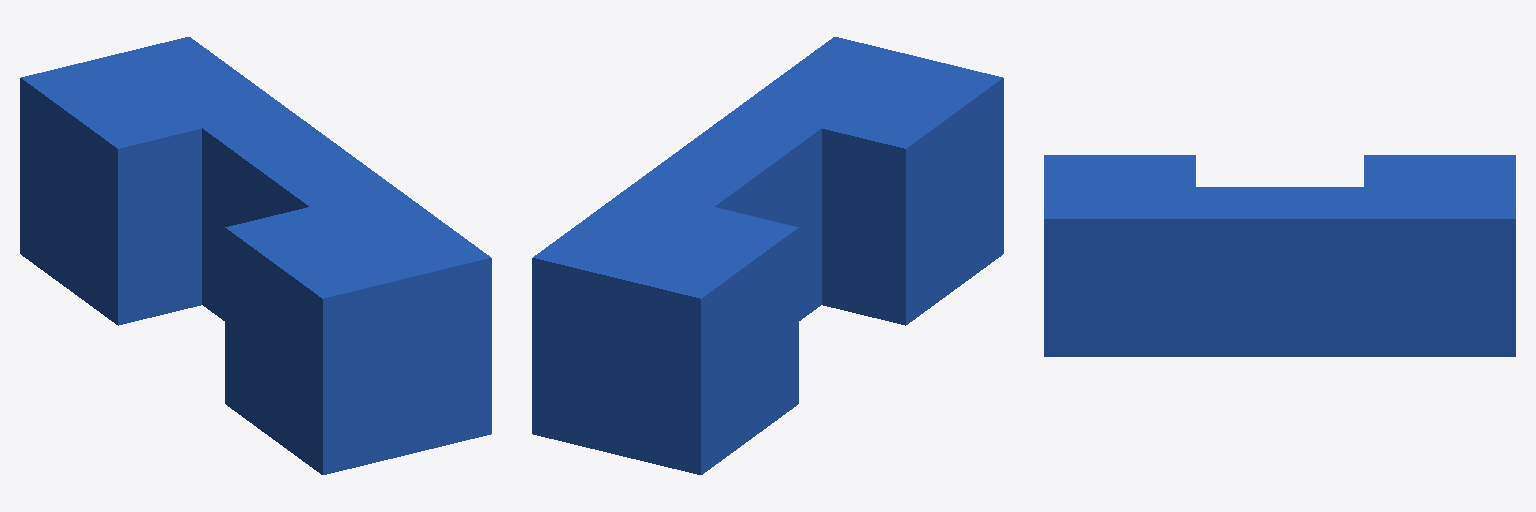
The robot description file, URDF, robot "obj_13":
<robot name="obj_13" version="1.0">
  <link name="obj_13">
    <collision name="short-piece-3-collision.001">
      <origin rpy="0.00000 0.00000 0.00000" xyz="0.00000 0.00000 0.00000"/>
      <geometry>
        <mesh filename="../meshes/obj/short-piece-3-collision.001.obj" scale="1.00000 1.00000 1.00000"/>
      </geometry>
    </collision>
    <collision name="short-piece-3-collision.002">
      <origin rpy="0.00000 0.00000 0.00000" xyz="0.00000 0.00000 0.00000"/>
      <geometry>
        <mesh filename="../meshes/obj/short-piece-3-collision.002.obj" scale="1.00000 1.00000 1.00000"/>
      </geometry>
    </collision>
    <collision name="short-piece-3-collision.003">
      <origin rpy="0.00000 0.00000 0.00000" xyz="0.00000 0.00000 0.00000"/>
      <geometry>
        <mesh filename="../meshes/obj/short-piece-3-collision.003.obj" scale="1.00000 1.00000 1.00000"/>
      </geometry>
    </collision>
    <inertial>
      <inertia ixx="0.00001" ixy="-0.00000" ixz="0.00000" iyy="0.00000" iyz="0.00000" izz="0.00001"/>
      <origin rpy="0.00000 0.00000 0.00000" xyz="-0.20393 0.18995 0.07663"/>
      <mass value="0.00300"/>
    </inertial>
    <visual name="short-piece-3">
      <material name="turnarrow"/>
      <origin rpy="-1.57080 0.00000 1.57080" xyz="-0.21288 0.18995 0.07663"/>
      <geometry>
        <mesh filename="../meshes/obj/short-piece.003.obj" scale="0.00500 0.00500 0.00500"/>
      </geometry>
    </visual>
  </link>
  <material name="turnarrow">
    <color rgba="0.23137 0.44706 0.80000 1.00000"/>
  </material>
</robot>

--- What the picture shows (computed from the rendered views, not written in the file) ---
The picture shows the robot from 3 angles, left to right: view 1: azimuth 30°, elevation 25°; view 2: azimuth 150°, elevation 25°; view 3: azimuth 270°, elevation 25°; orthographic projection.
Robot: obj_13 — 1 links, 0 joints (none); root link obj_13; default pose: every joint at zero.
Links seen in each view (by area): view 1: obj_13; view 2: obj_13; view 3: obj_13.
Link boxes in pixels (x1=…): obj_13: x1=20, y1=37, x2=491, y2=474; obj_13: x1=532, y1=37, x2=1003, y2=474; obj_13: x1=1044, y1=155, x2=1515, y2=356.
Bounding box of the posed robot: 0.05 × 0.155 × 0.05 m (x, y, z).
Meshes: 1 distinct files referenced, 1 mesh visuals loaded (1 OBJ).